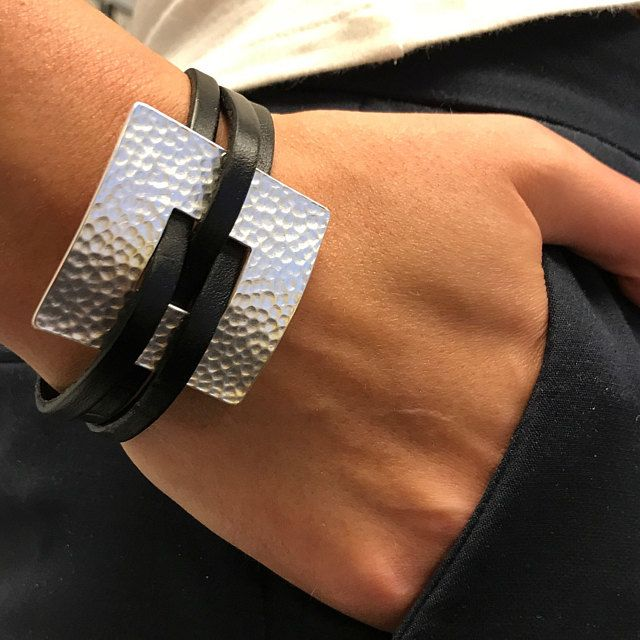cuero: (35, 67, 275, 442)
